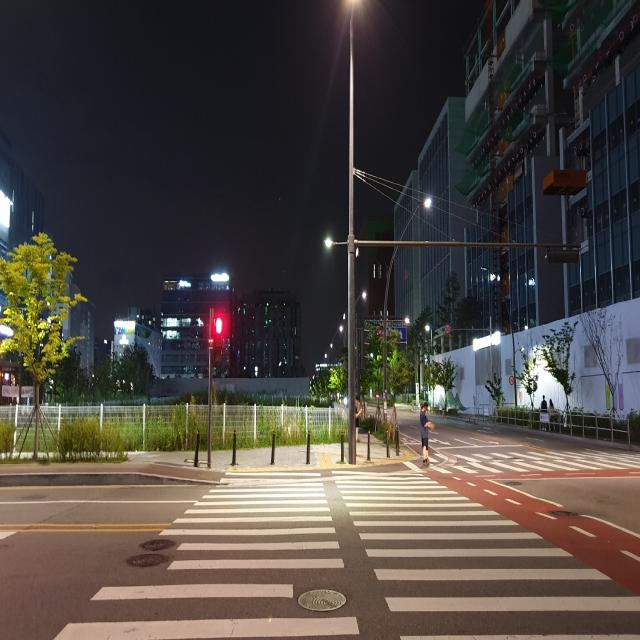빨간불: (214, 316, 223, 366)
횡단보도: (49, 466, 640, 640), (454, 452, 630, 475)
